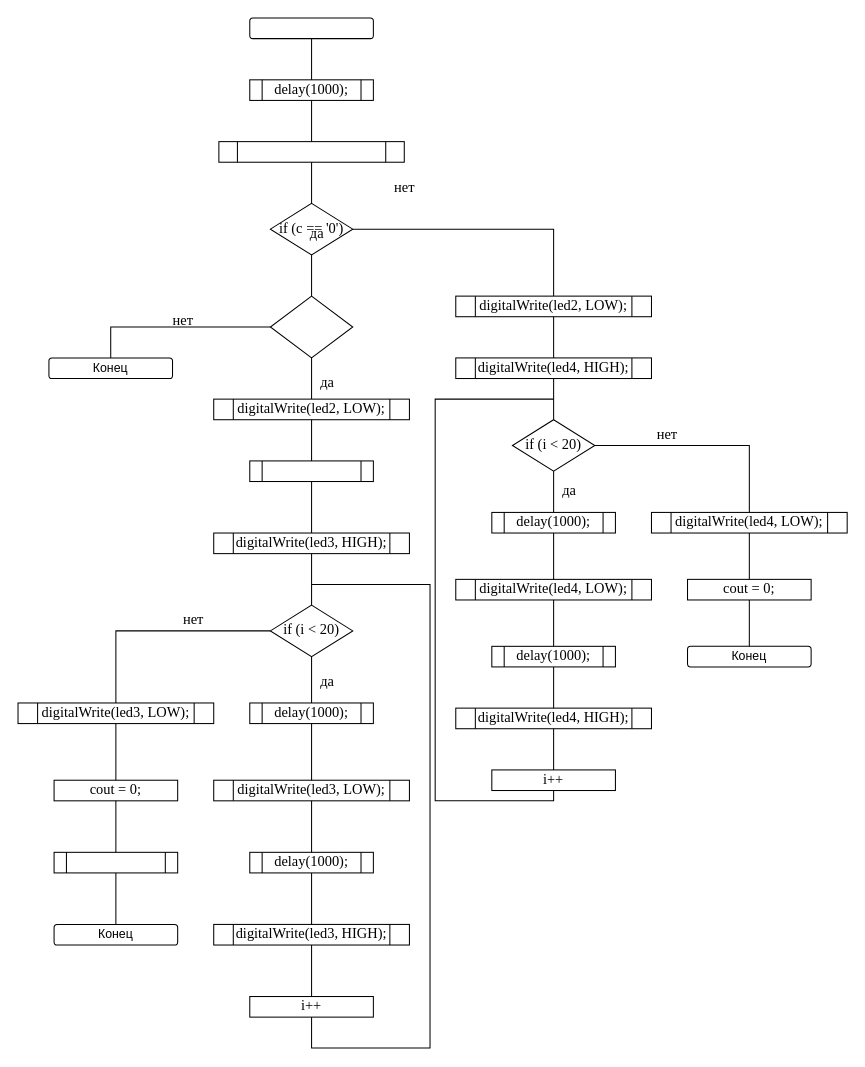
The diagram is 865 pixels wide and 1067 high, and some of its shapes have lost their labels. The shapes that lost their labels are listed below. From the top down, each one's centre as x and y in pixels, then its label:
At point 311,28: "Начало".
At point 311,151: "c = (char)Serial.read();".
At point 311,326: "if (c == '1')".
At point 311,471: "servo.write(1);".
At point 115,862: "servo.write(90);".
